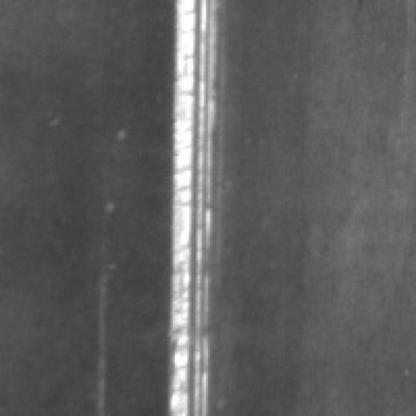scratches: (168, 4, 224, 416)
